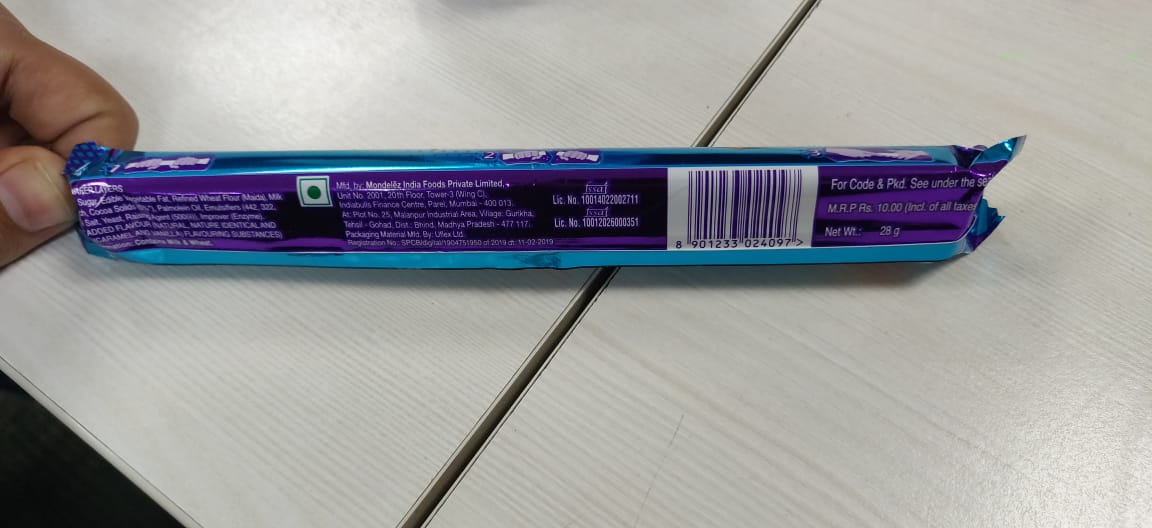perk: (46, 124, 1041, 282)
